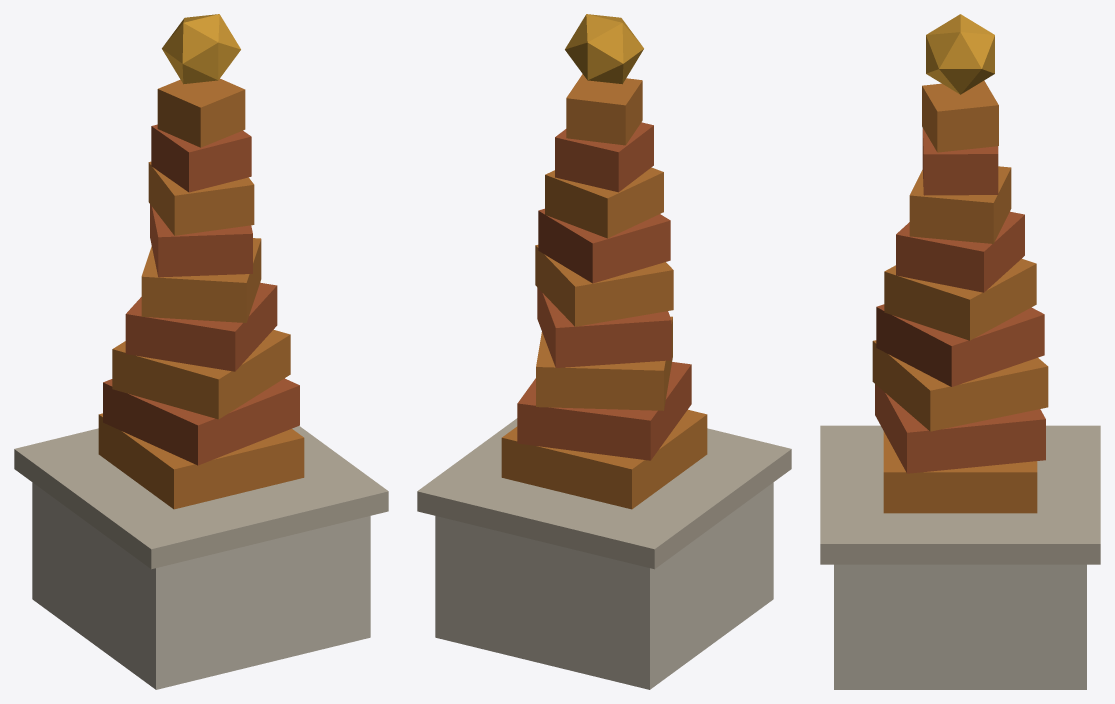
Rendered from c-sculpture-spiral.glb.
3 views of the same model, side by side, from view 1: azimuth 30°, elevation 25°; view 2: azimuth 150°, elevation 25°; view 3: azimuth 270°, elevation 25° (orthographic). The views are drawn at different scales.
Parts seen in each view (by area): view 1: c-sculpture-spiral; view 2: c-sculpture-spiral; view 3: c-sculpture-spiral.
Part boxes in pixels (bbox=[...]): c-sculpture-spiral: bbox=[14, 14, 388, 689]; c-sculpture-spiral: bbox=[417, 14, 791, 689]; c-sculpture-spiral: bbox=[820, 14, 1100, 689].
Bounding box in the file's own units: 0.6199 × 1.5 × 0.6199.
